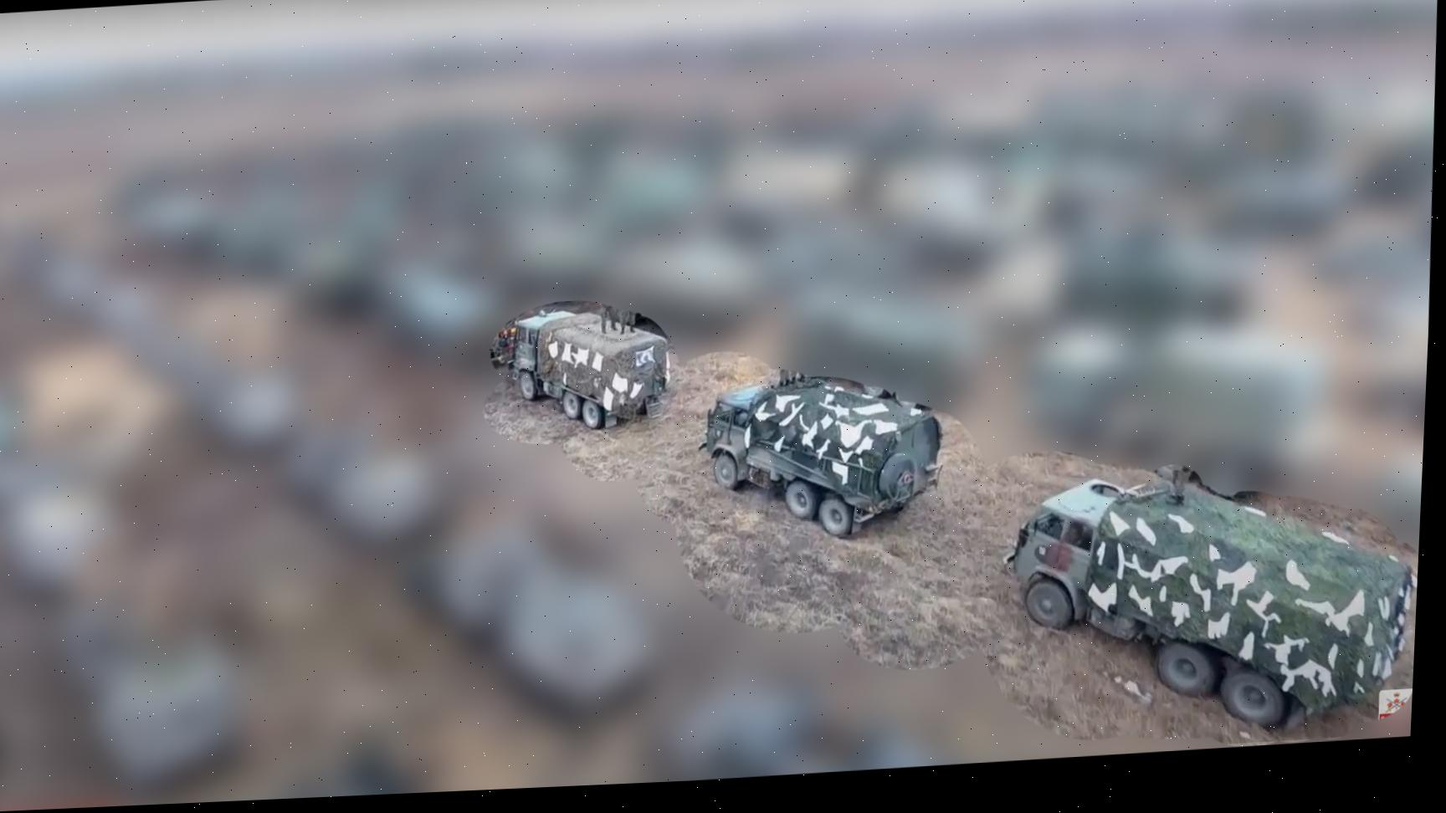truck: (988, 457, 1421, 741), (688, 368, 945, 545), (500, 301, 675, 433)
